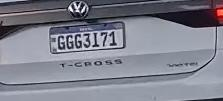Placa_mercosul_carro: (50, 21, 126, 54)
